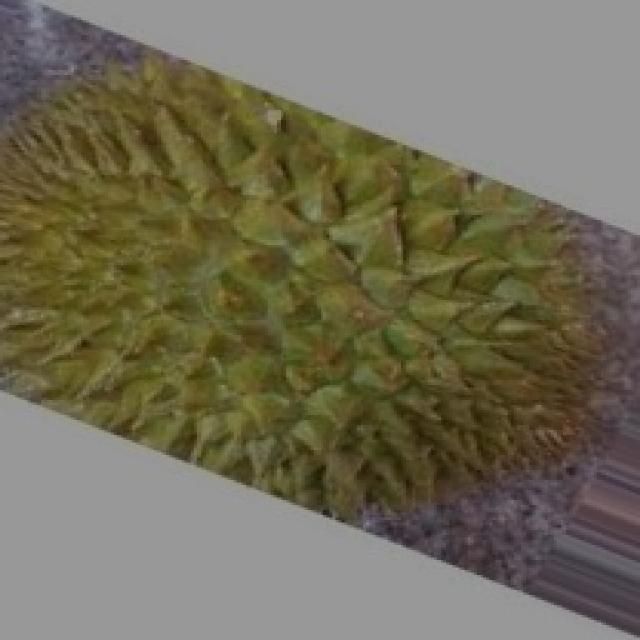fruit: (0, 0, 351, 518), (246, 202, 637, 620)
